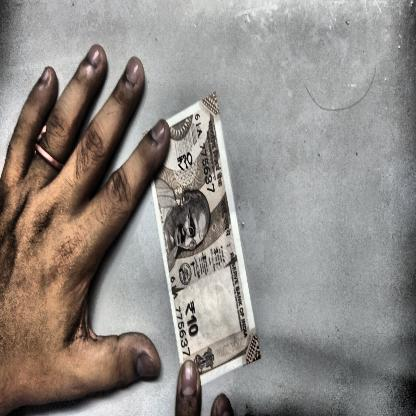Rs10: (181, 295, 203, 343)
